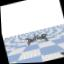drone: (24, 32, 48, 46)
